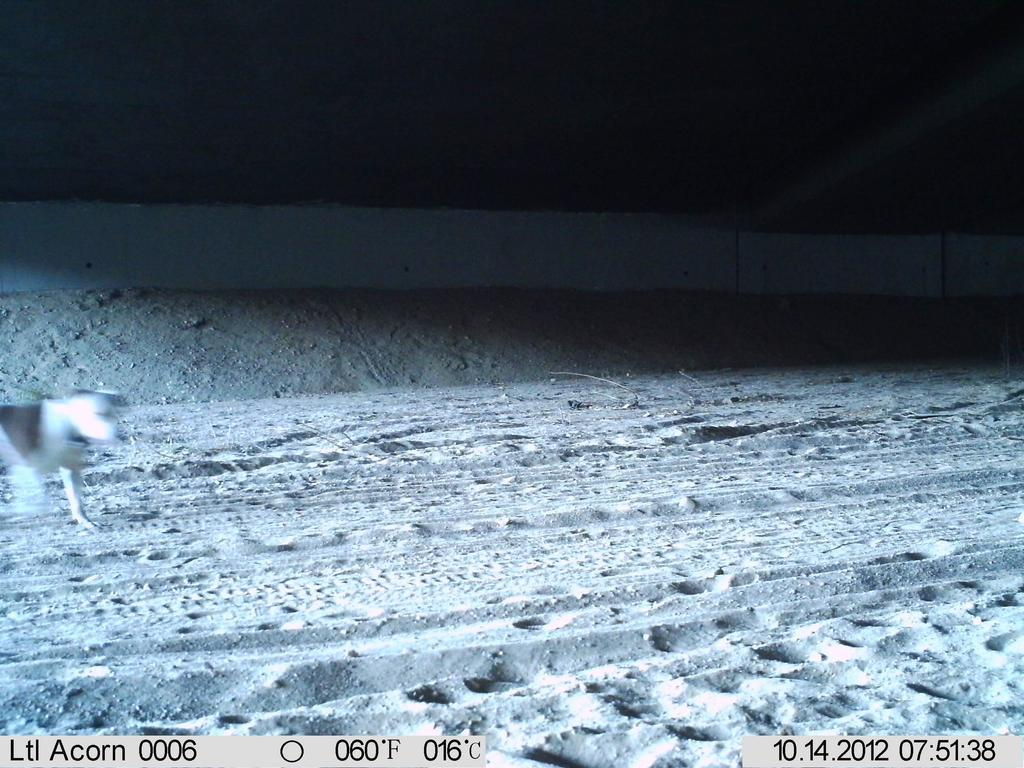dog: (3, 383, 143, 542)
